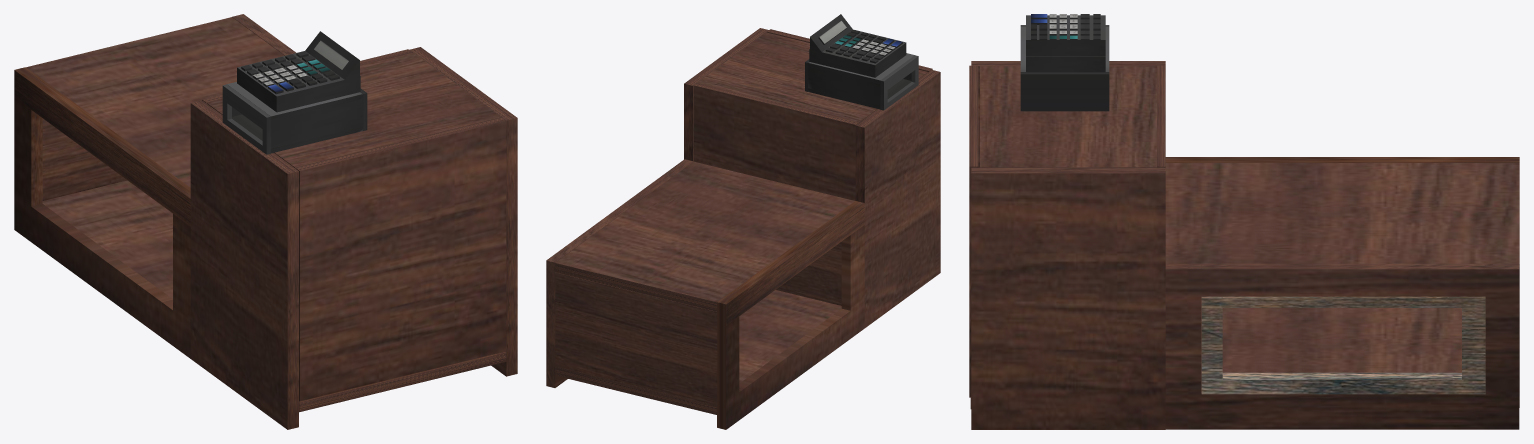
Rendered from mesaRegistradora.obj.
The picture shows the model from 3 angles, left to right: view 1: azimuth 30°, elevation 25°; view 2: azimuth 150°, elevation 25°; view 3: azimuth 270°, elevation 25°; orthographic projection. The views are drawn at different scales.
Parts seen in each view (by area): view 1: mesaCaja; view 2: mesaCaja; view 3: mesaCaja.
Boxes of the visible parts, <box> form: mesaCaja: <box>14,14,517,429</box>; mesaCaja: <box>546,14,940,429</box>; mesaCaja: <box>969,14,1519,429</box>.
Bounding box in the file's own units: 0.9075 × 1.22 × 1.87.
Materials: 3 (3 with a texture image).
